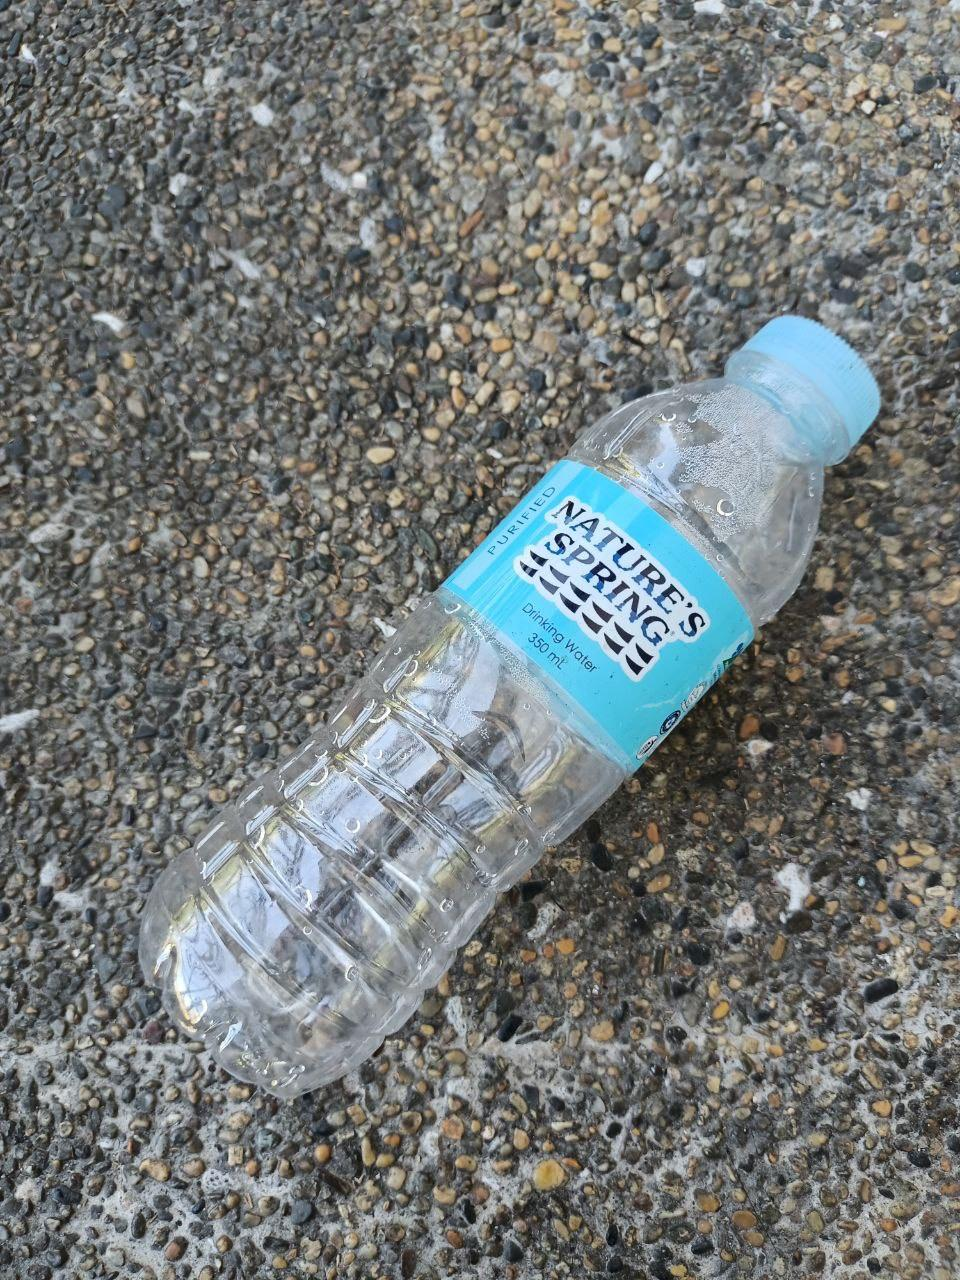plastic: (123, 299, 884, 1120)
